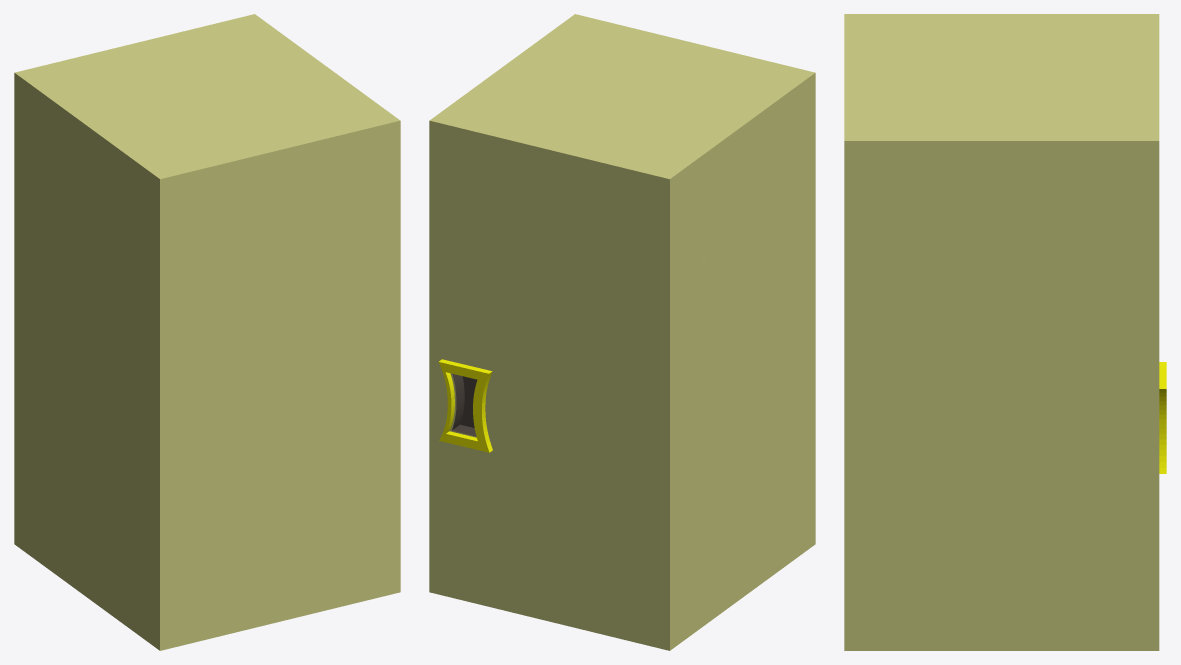
The model's file is RightGoal.obj.
The picture shows the model from 3 angles, left to right: view 1: azimuth 30°, elevation 25°; view 2: azimuth 150°, elevation 25°; view 3: azimuth 270°, elevation 25°; orthographic projection. The views are drawn at different scales.
Parts seen in each view (by area): view 1: 立方体.003; view 2: 立方体.003; view 3: 立方体.003.
Part boxes in pixels (x1,y1,x2,y2): 立方体.003: (14,14,400,650); 立方体.003: (429,14,815,650); 立方体.003: (844,14,1166,650).
Bounding box in the file's own units: 0.9645 × 1.81 × 1.04.
Materials: 1 (1 with a texture image).
